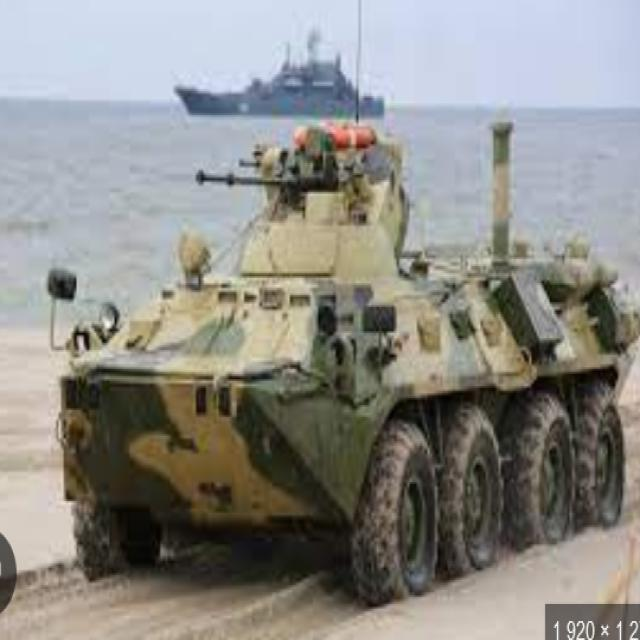MIL_APC: (58, 164, 640, 606)
